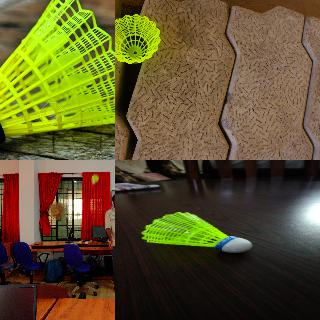shuttlecock: (0, 0, 114, 156), (141, 211, 251, 253), (115, 13, 161, 63), (91, 174, 99, 184)
